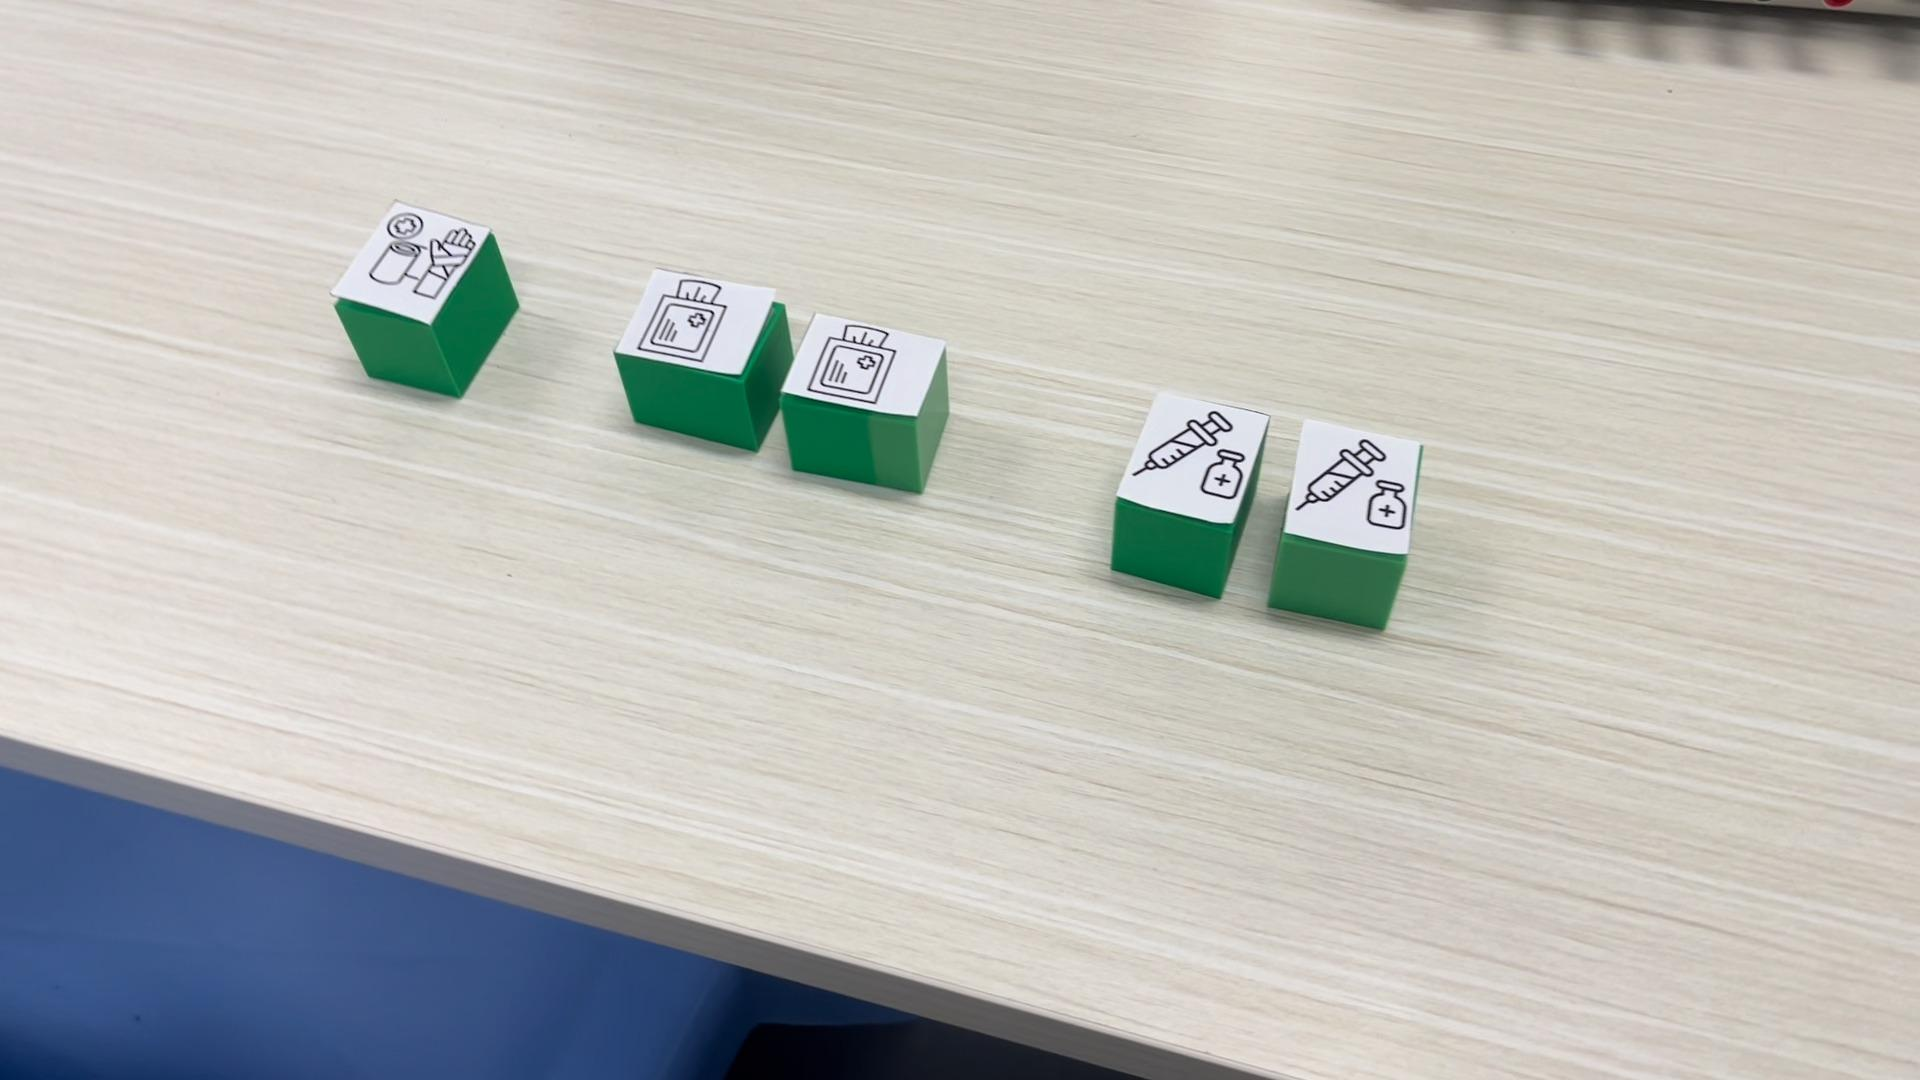Bandages: (331, 199, 522, 398)
Gauze: (777, 310, 960, 497), (613, 266, 785, 452)
antiseptic cream: (1106, 388, 1274, 603), (1269, 405, 1425, 632)
